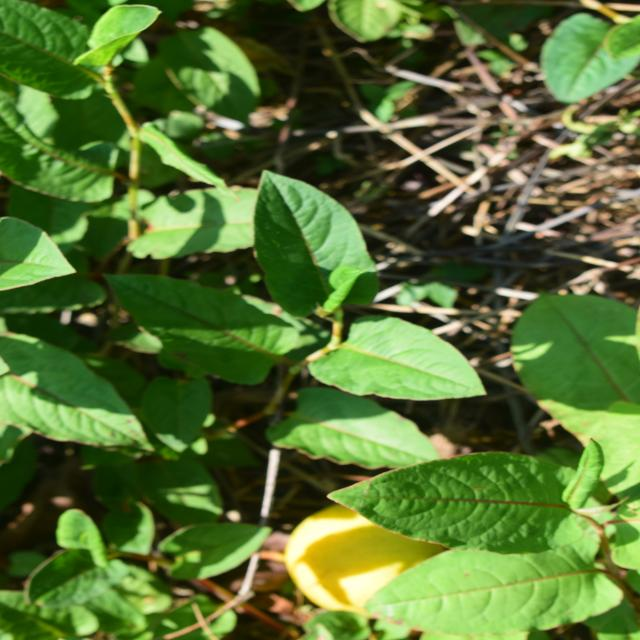Chinese_knotweed: (171, 108, 442, 444), (0, 356, 213, 636)
